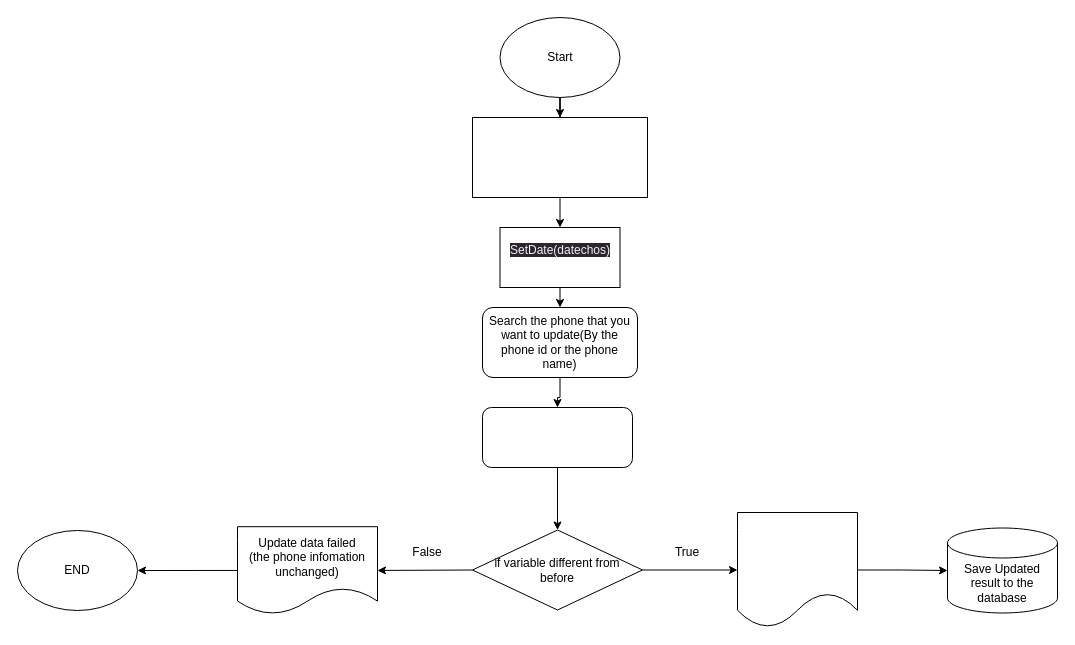
The diagram is 1075 pixels wide and 645 high, and some of its shapes have lost their labels. The shapes that lost their labels are listed below. From the top down, each one's centre as x and y in pixels, then its label:
the point at 560,157: SetString: manufacturer,phone.imei, ram,rom,thickness,price,length, width.
the point at 557,437: Change the data that the user just search
the point at 797,570: Print Updated result (manufacturer, phone,imei,price,ram, rom,datechos)
